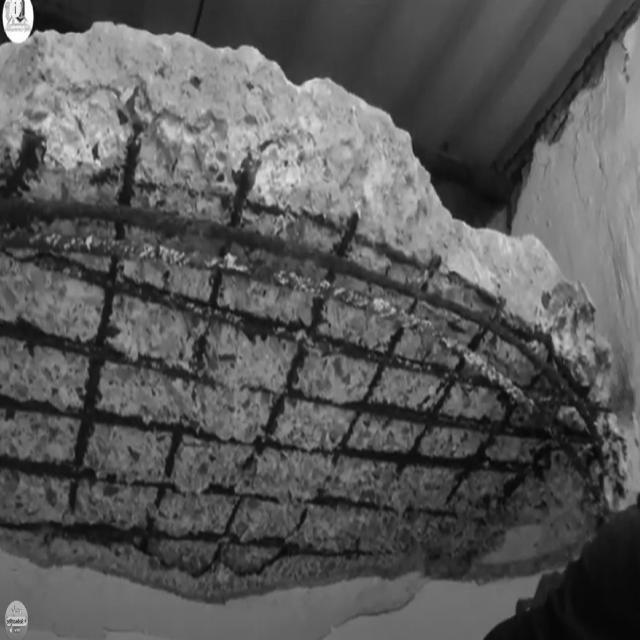Spalling: (0, 101, 630, 608)
